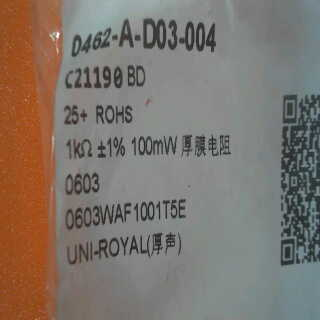1kR: (60, 135, 93, 161)
